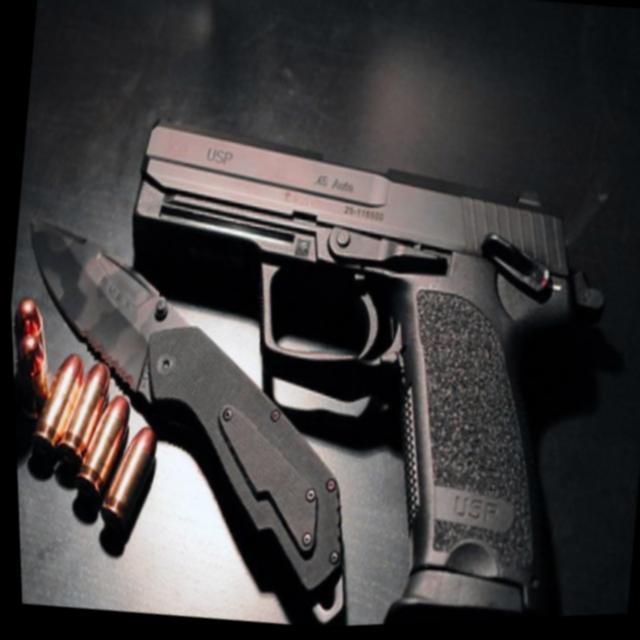weapon: (80, 88, 636, 638), (6, 201, 392, 640)
